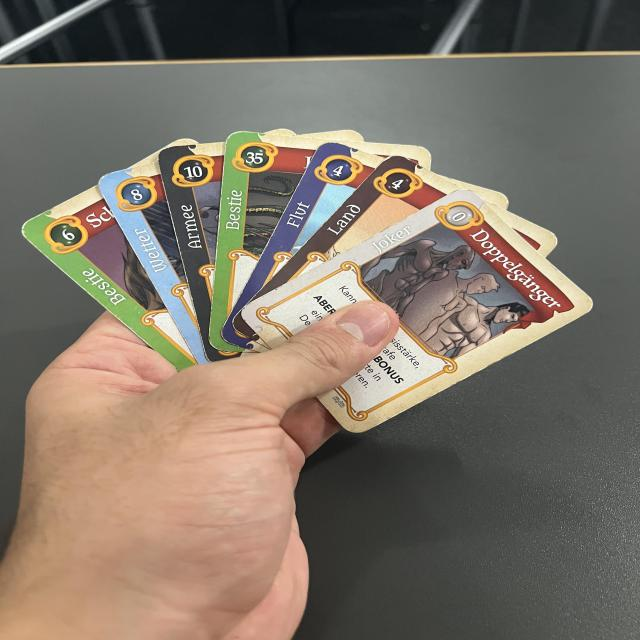Basilisk: (210, 129, 324, 333)
Doppelganger: (238, 187, 603, 435), (254, 152, 463, 295)
Elven Archers: (154, 140, 225, 341)
Rainstorm: (94, 162, 212, 367)
War Horse: (15, 184, 199, 369)
Water Elemental: (233, 139, 386, 310)
